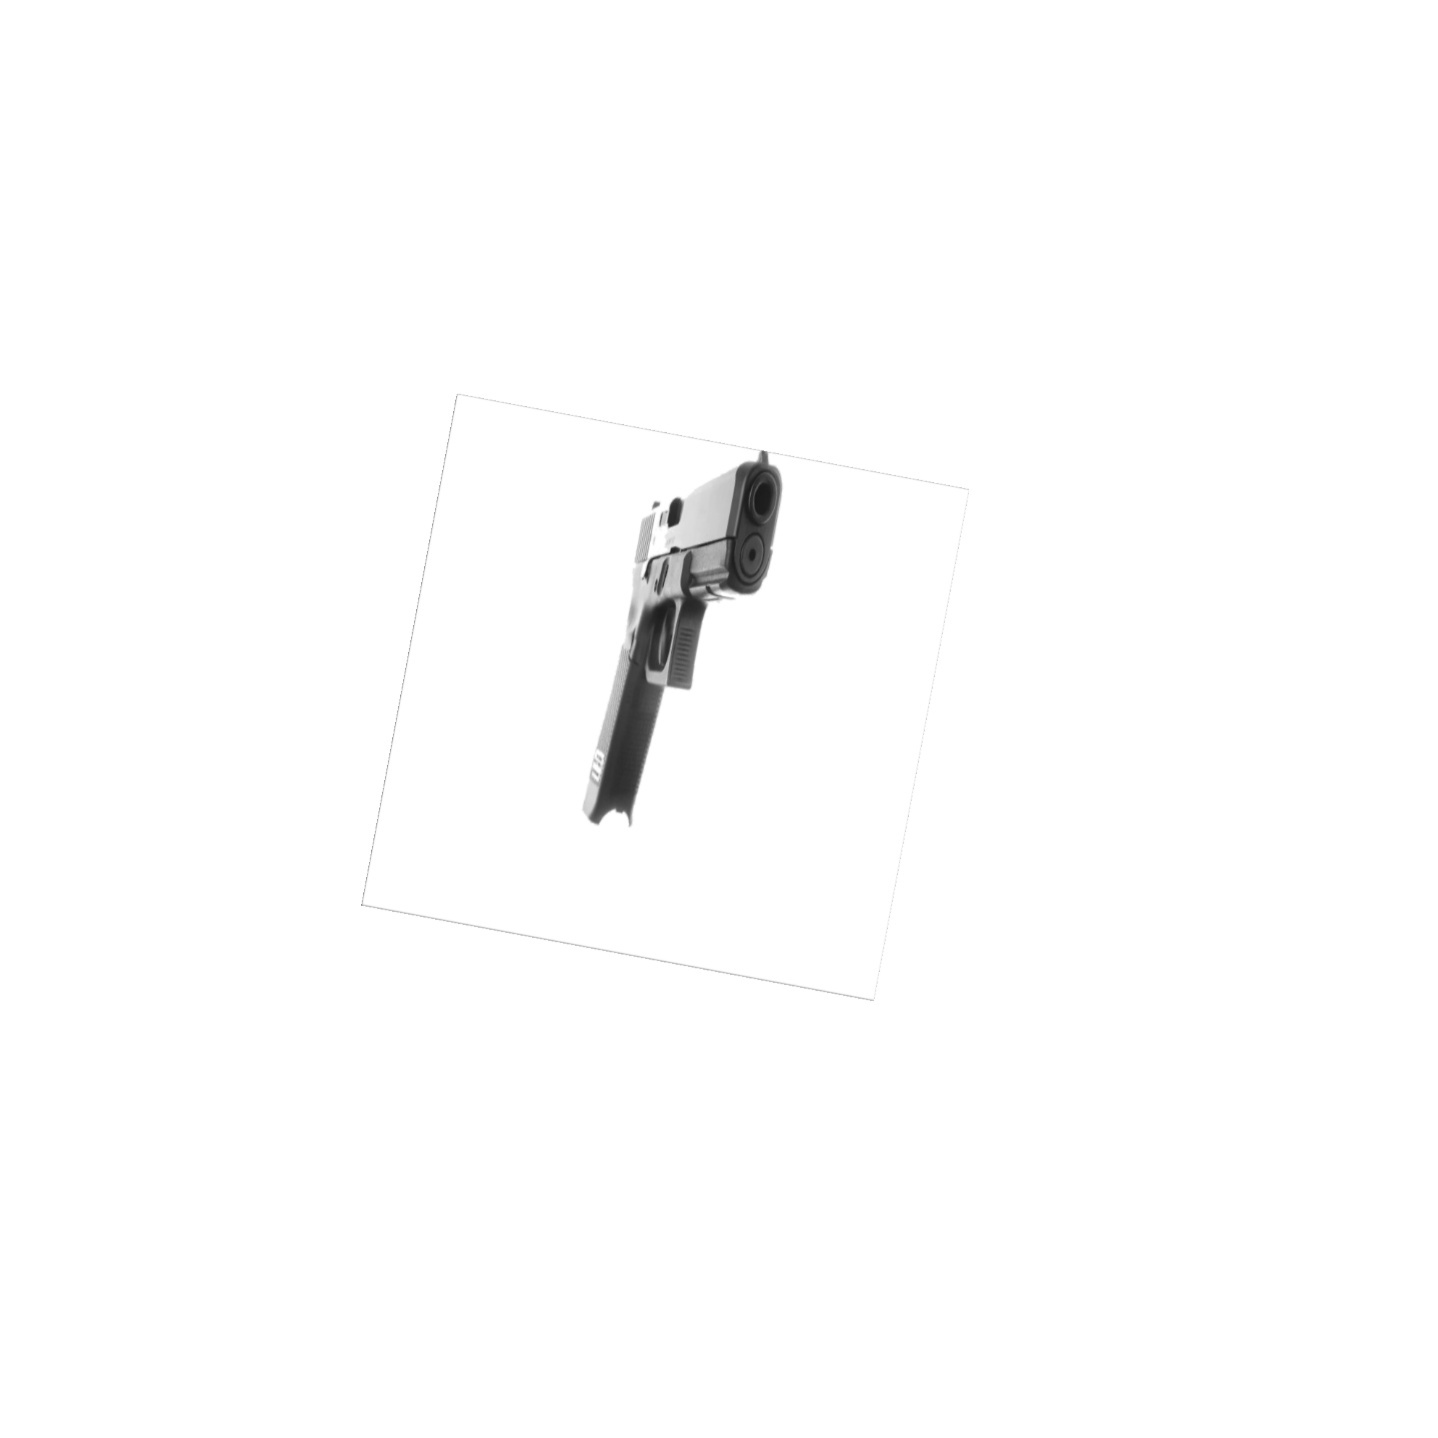gun: (582, 450, 782, 828)
